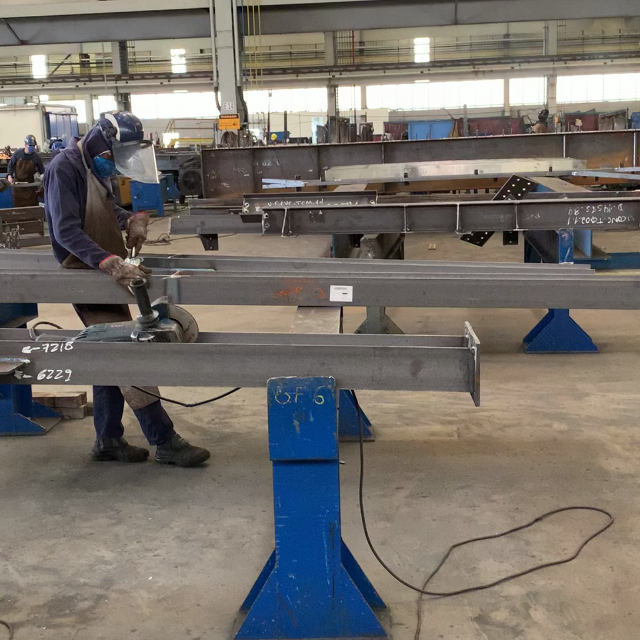face-shield: (113, 143, 160, 188)
glove: (100, 255, 153, 300), (127, 214, 147, 252)
helmet: (98, 109, 145, 143)
person: (45, 112, 160, 297)
safety-shoe: (154, 430, 213, 467), (90, 437, 152, 465)
